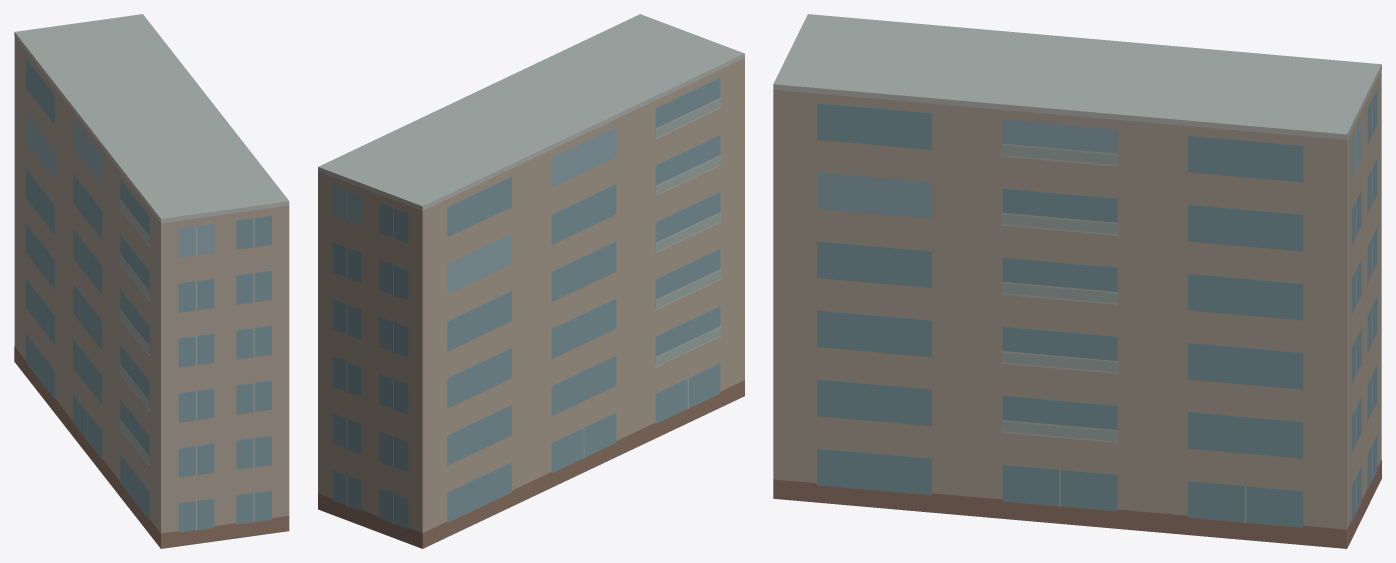
File: survey-upis-33017975.glb
3 renders of one model, left to right at view 1: azimuth 30°, elevation 25°; view 2: azimuth 150°, elevation 25°; view 3: azimuth 270°, elevation 25°, orthographic. The views are drawn at different scales.
Visible parts, largest first — view 1: survey-upis-33017975.tmp; view 2: survey-upis-33017975.tmp; view 3: survey-upis-33017975.tmp.
Boxes of the visible parts, bbox=[...] form: survey-upis-33017975.tmp: bbox=[14, 14, 289, 548]; survey-upis-33017975.tmp: bbox=[318, 14, 744, 548]; survey-upis-33017975.tmp: bbox=[773, 14, 1381, 548].
Size of the model in its own units: 11.42 by 18.3 by 24.37.
